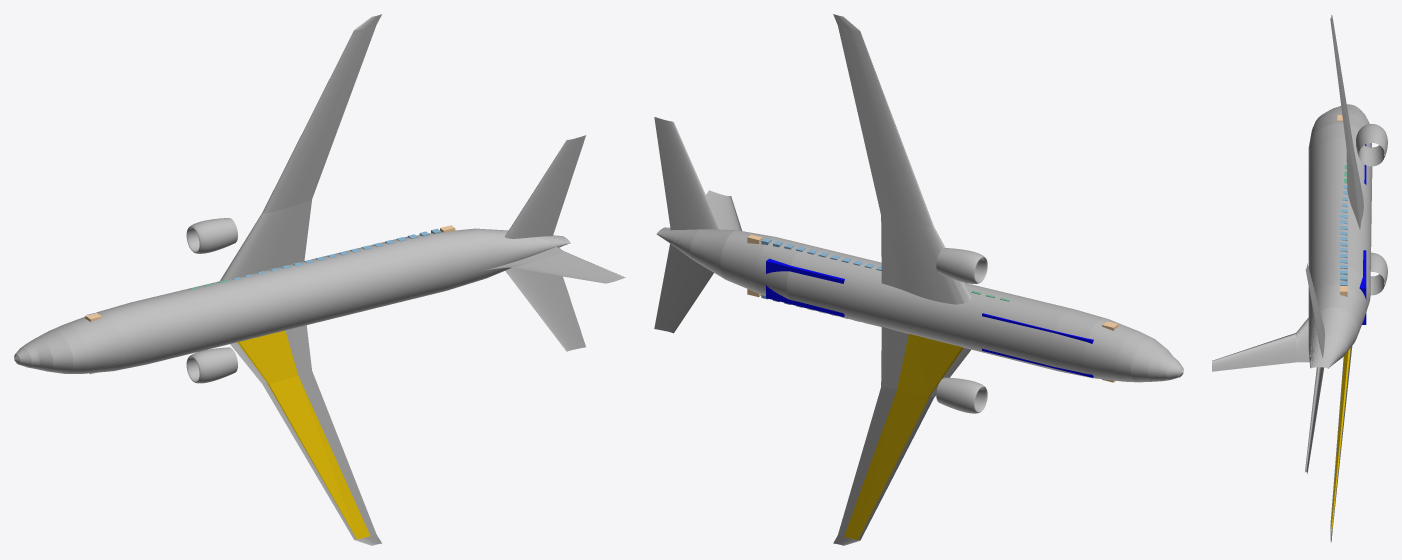
File: Boeing_737-800.gltf
The picture shows the model from 3 angles, left to right: view 1: azimuth 30°, elevation 25°; view 2: azimuth 150°, elevation 25°; view 3: azimuth 270°, elevation 25°; orthographic projection.
Parts seen in each view (by area): view 1: Renderer Node; view 2: Renderer Node; view 3: Renderer Node.
Part boxes in pixels (bbox=[...]): Renderer Node: bbox=[14, 14, 625, 545]; Renderer Node: bbox=[654, 14, 1183, 545]; Renderer Node: bbox=[1212, 15, 1387, 542].
Size of the model in its own units: 38.97 by 35.8 by 10.83.
